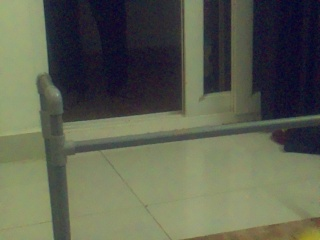ball: (297, 227, 319, 239)
